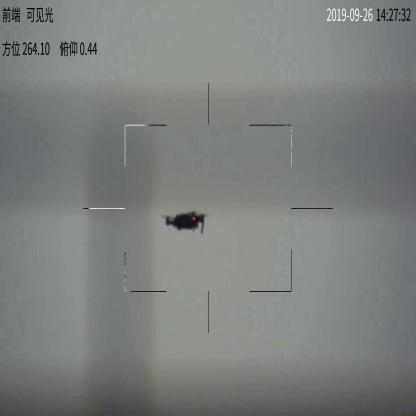uav: (158, 209, 209, 233)
